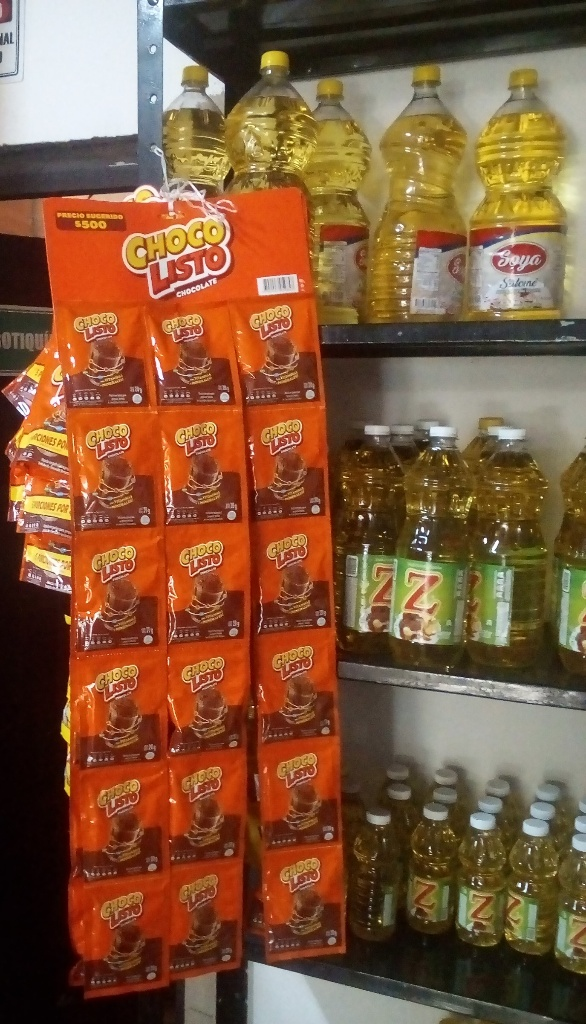COL0170103SOB02000: (56, 295, 152, 413)
